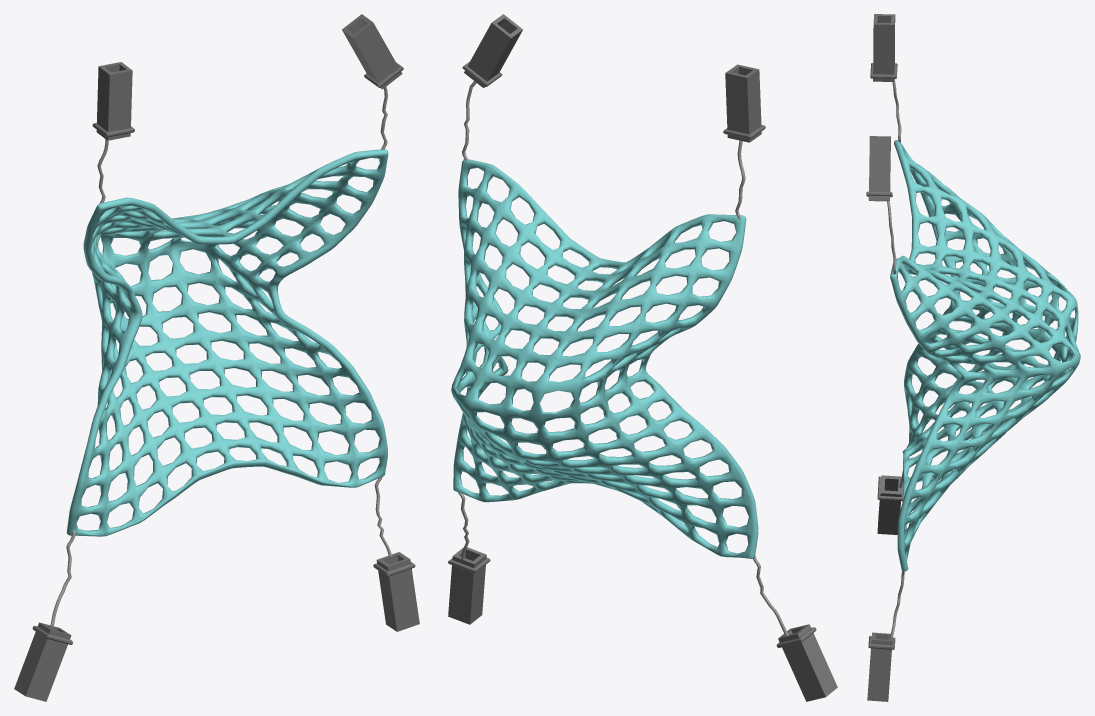
Rendered from Net_Bullet.fbx.
3 renders of one model, left to right at view 1: azimuth 30°, elevation 25°; view 2: azimuth 150°, elevation 25°; view 3: azimuth 270°, elevation 25°, orthographic. The views are drawn at different scales.
Parts seen in each view (by area): view 1: pasted__pCube17; view 2: pasted__pCube17; view 3: pasted__pCube17.
Part boxes in pixels (x1,y1,x2,y2): pasted__pCube17: (14,14,419,701); pasted__pCube17: (448,14,837,701); pasted__pCube17: (866,14,1080,701).
Bounding box in the file's own units: 2.78 × 4.28 × 1.49.
